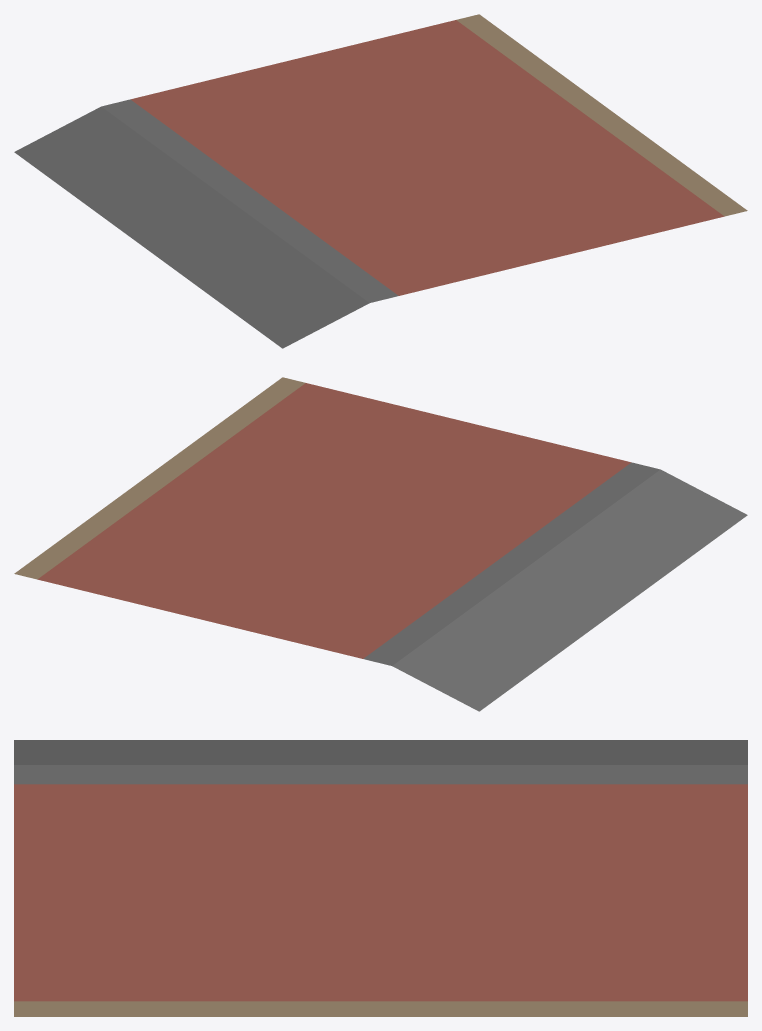
File: Sidewalk.fbx
3 views of the same model, one above another, from view 1: azimuth 30°, elevation 25°; view 2: azimuth 150°, elevation 25°; view 3: azimuth 270°, elevation 25° (orthographic). The views are drawn at different scales.
Visible parts, largest first — view 1: Sidewalk; view 2: Sidewalk; view 3: Sidewalk.
Part boxes in pixels (x1=…): Sidewalk: x1=14, y1=14, x2=747, y2=348; Sidewalk: x1=14, y1=377, x2=747, y2=711; Sidewalk: x1=14, y1=740, x2=747, y2=1016.
Bounding box in the file's own units: 200 × 10 × 200.
